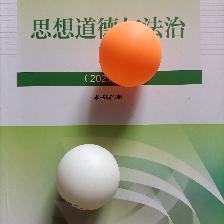WhiteBall: (56, 143, 120, 209)
YellowBall: (98, 20, 162, 87)
